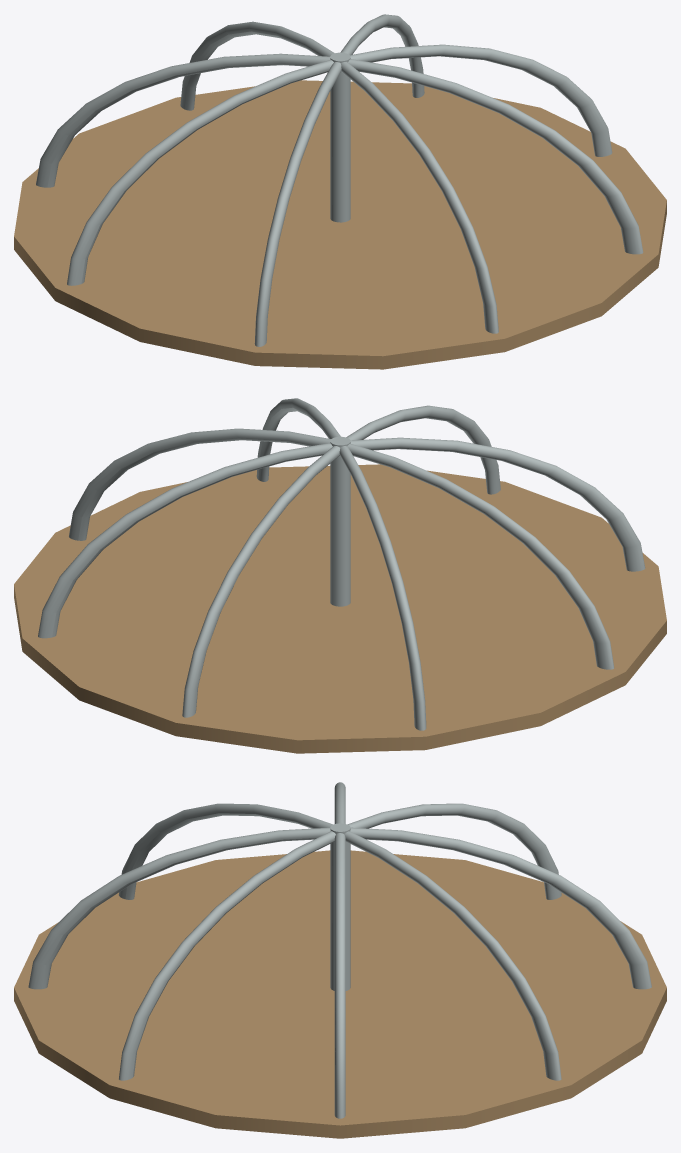
Rendered from playground_spin.fbx.
3 views of the same model, one above another, from view 1: azimuth 30°, elevation 25°; view 2: azimuth 150°, elevation 25°; view 3: azimuth 270°, elevation 25° (orthographic).
Visible parts, largest first — view 1: playground3:gyr3; view 2: playground3:gyr3; view 3: playground3:gyr3.
Boxes of the visible parts, bbox=[...] form: playground3:gyr3: bbox=[14, 14, 666, 369]; playground3:gyr3: bbox=[14, 398, 666, 753]; playground3:gyr3: bbox=[14, 782, 666, 1138].
Bounding box in the file's own units: 49.08 × 15.59 × 49.08.
